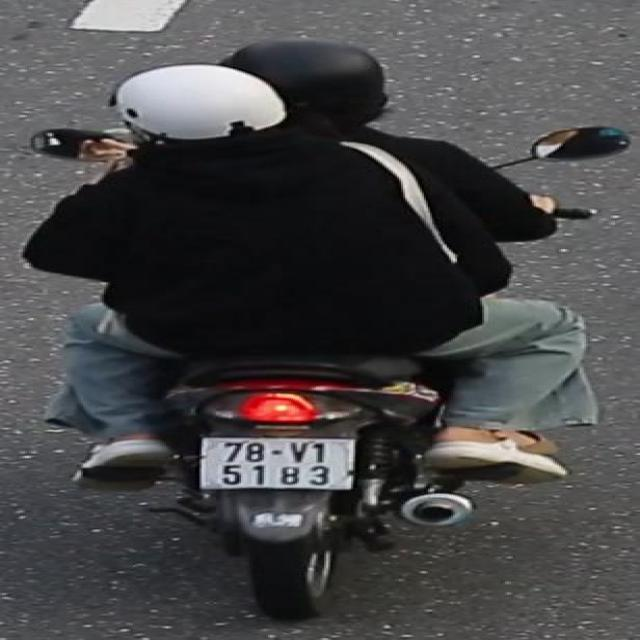LP: (192, 431, 358, 497)
helmet: (99, 61, 338, 187), (217, 32, 413, 157)
